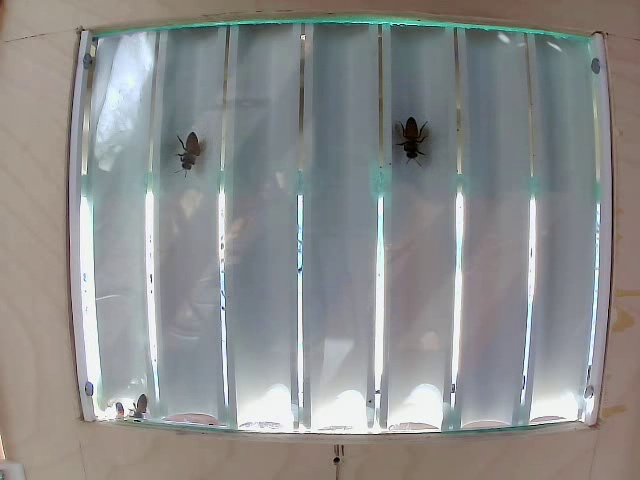bee: (391, 117, 430, 164), (163, 126, 199, 168)
